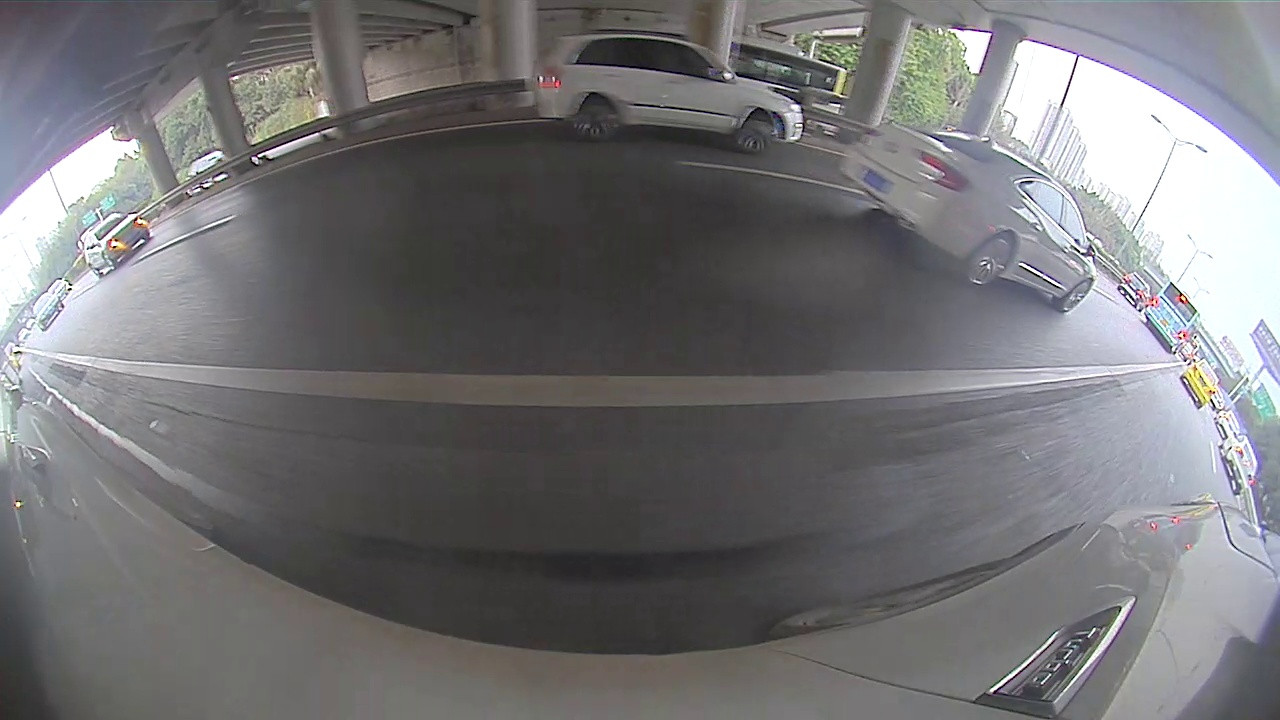bus: (730, 39, 843, 97), (1143, 282, 1197, 355)
car: (839, 119, 1097, 314), (539, 29, 802, 153), (83, 211, 150, 276), (1218, 433, 1257, 492), (1182, 359, 1217, 410), (1119, 272, 1154, 306), (30, 292, 62, 328)
front: (735, 119, 779, 157), (1055, 279, 1094, 313), (102, 254, 118, 273)
rear: (963, 235, 1017, 286), (572, 102, 621, 142)
